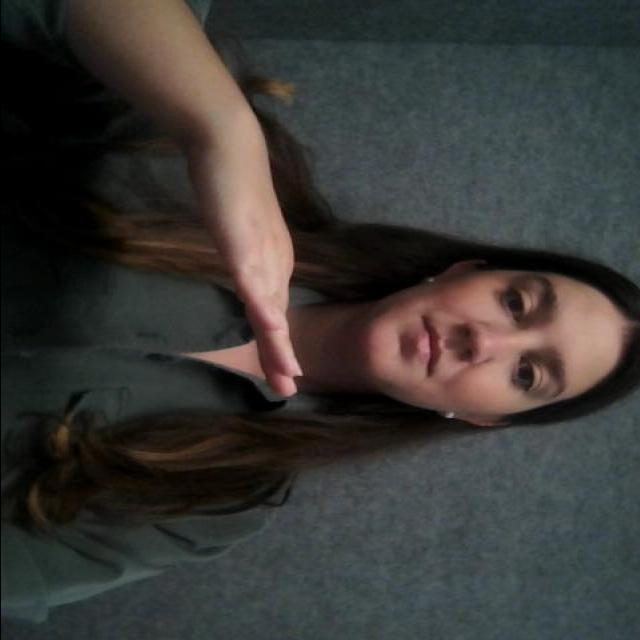Paper: (189, 161, 311, 398)
